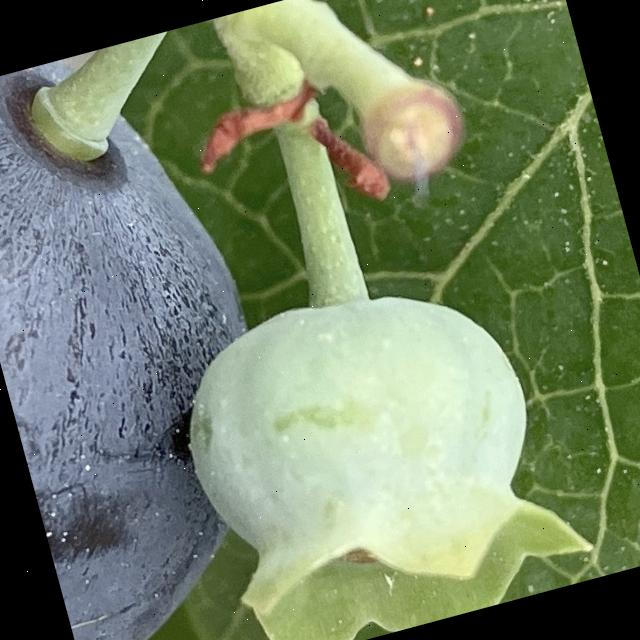Blueberries: (0, 27, 334, 640)
